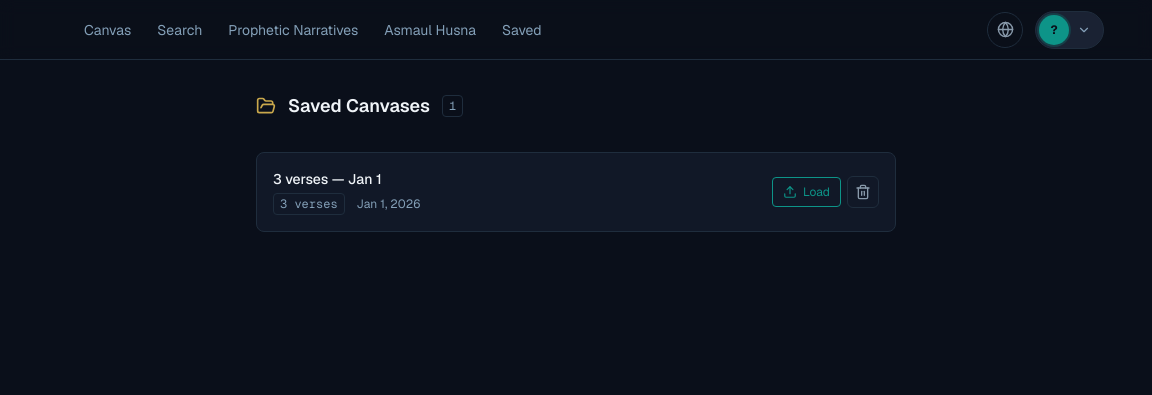
Test: WorkspacesPage — delete confirmation › requires a second click before deleting a saved canvas
expect the text "3 verses — Jan 1" is shown: met, box [273, 170, 382, 188]
Click the button named "Delete canvas".
click(863, 192)  # box [847, 176, 879, 208]
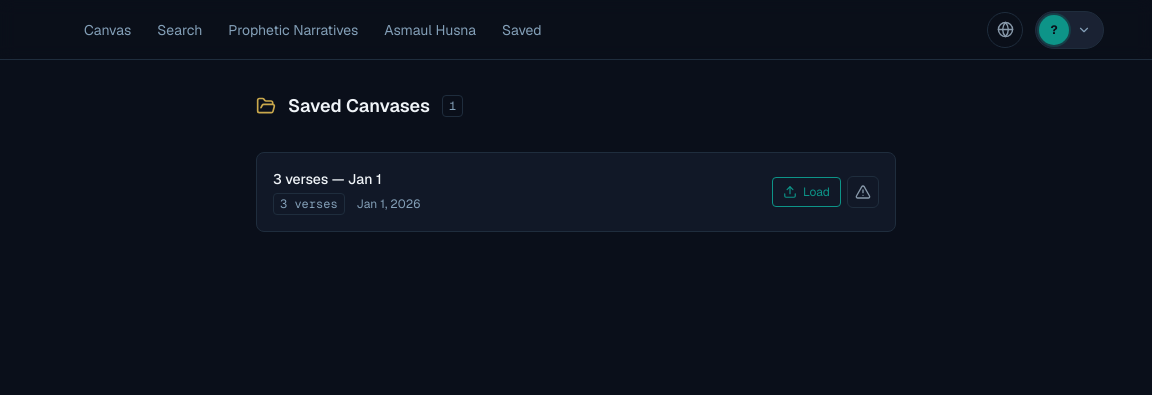
expect the text "3 verses — Jan 1" is shown: met, box [273, 170, 382, 188]
Click the button named "Confirm delete canvas?".
click(863, 192)  # box [847, 176, 879, 208]
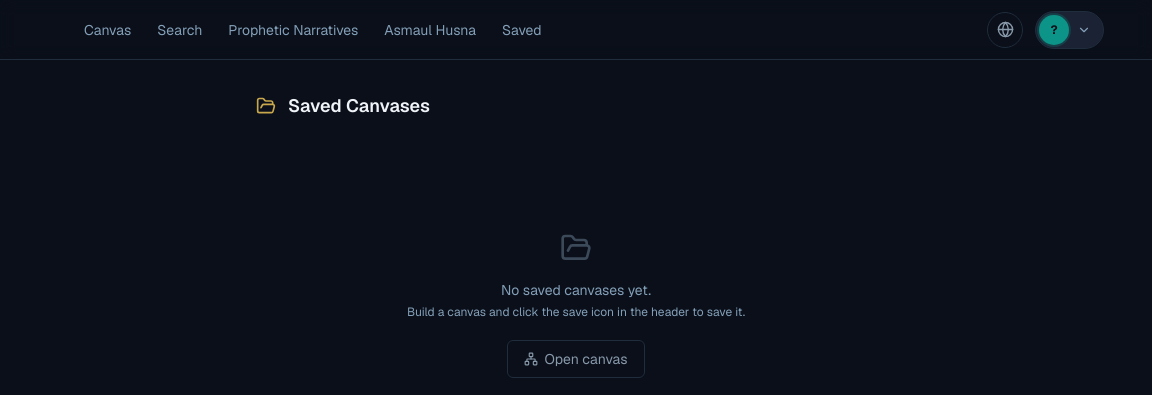
expect the text "3 verses — Jan 1" is gone: met
